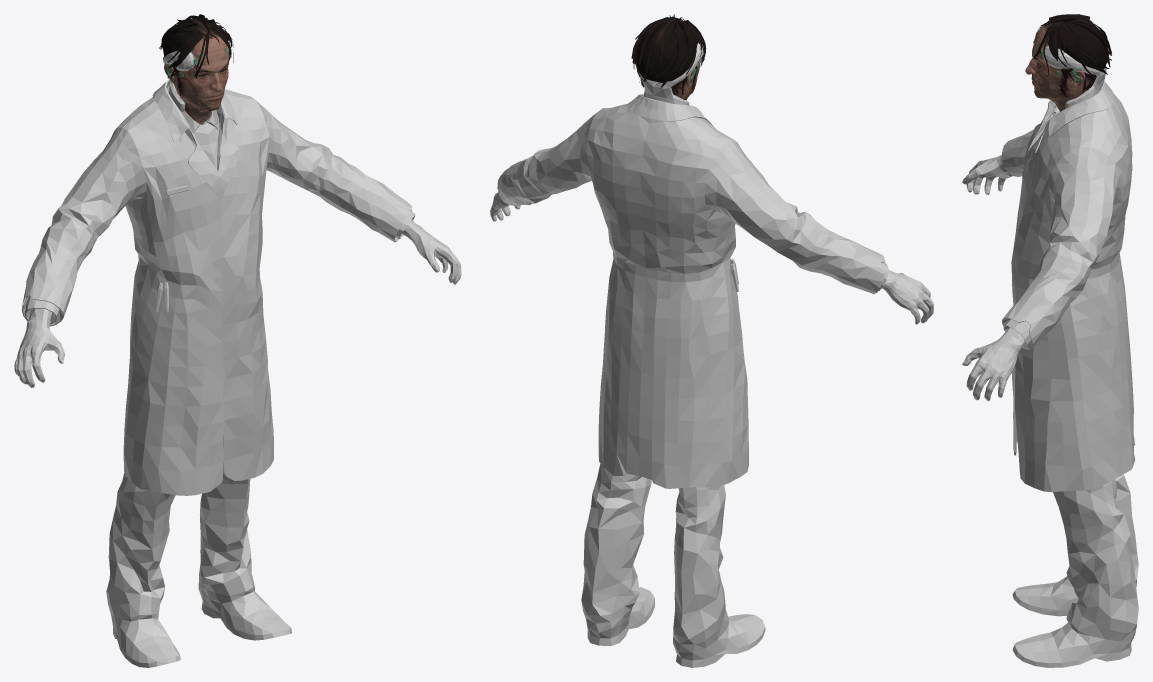
Rendered from quaid.obj.
3 views of the same model, side by side, from view 1: azimuth 30°, elevation 25°; view 2: azimuth 150°, elevation 25°; view 3: azimuth 270°, elevation 25° (orthographic).
Parts seen in each view (by area): view 1: 4144b178_obj, 4144d7f8_obj, 42997d40_obj; view 2: 4144b178_obj, 4144d7f8_obj, 42997d40_obj; view 3: 4144b178_obj, 4144d7f8_obj, 42997d40_obj.
Boxes of the visible parts, x1,y1,x2,y2 form: 4144b178_obj: (14, 44, 461, 667); 4144d7f8_obj: (162, 17, 229, 124); 42997d40_obj: (159, 14, 233, 95); 4144b178_obj: (490, 42, 933, 667); 4144d7f8_obj: (636, 20, 700, 99); 42997d40_obj: (631, 14, 706, 95); 4144b178_obj: (962, 45, 1138, 667); 4144d7f8_obj: (1025, 17, 1107, 111); 42997d40_obj: (1033, 14, 1111, 97).
Size of the model in its own units: 4.01 by 5.39 by 1.4.
